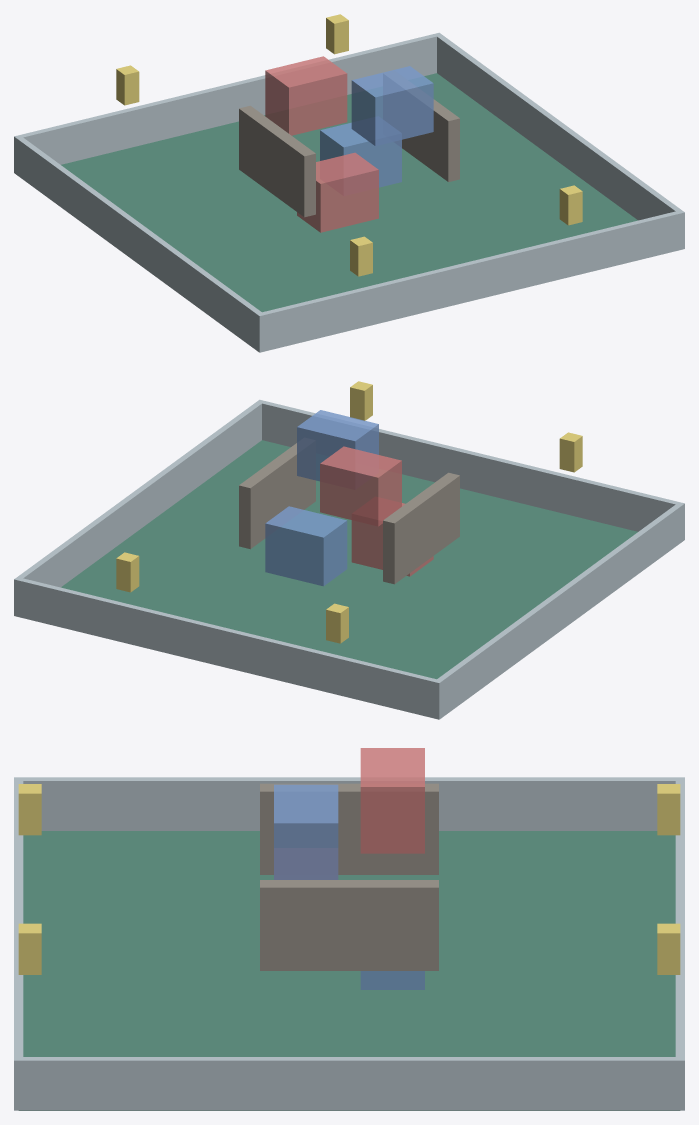
File: field.glb
3 renders of one model, top to bottom at view 1: azimuth 30°, elevation 25°; view 2: azimuth 150°, elevation 25°; view 3: azimuth 270°, elevation 25°, orthographic. The views are drawn at different scales.
Parts seen in each view (by area): view 1: floor, wall_s, wall_n, wall_w, wall_e, hive_frame_west, blue_cell_up, red_cell_up, red_cell_down, hive_frame_east, blue_cell_down, flower_2 (+3 smaller); view 2: floor, wall_n, wall_s, wall_w, wall_e, hive_frame_west, blue_cell_down, red_cell_up, hive_frame_east, blue_cell_up, red_cell_down, flower_4 (+3 smaller); view 3: floor, wall_e, wall_w, hive_frame_east, hive_frame_west, red_cell_up, blue_cell_up, wall_n, wall_s, flower_1, flower_2, flower_3 (+2 smaller).
Part boxes in pixels (x1,y1,x2,y2): floor: (61, 73, 637, 312); wall_s: (256, 210, 684, 352); wall_n: (14, 32, 441, 174); wall_w: (15, 136, 263, 349); wall_e: (436, 34, 682, 220); hive_frame_west: (239, 105, 315, 217); blue_cell_up: (351, 66, 433, 145); red_cell_up: (265, 56, 347, 135); red_cell_down: (297, 152, 378, 232); hive_frame_east: (383, 71, 459, 182); blue_cell_down: (320, 122, 401, 187); flower_2: (559, 185, 582, 225); floor: (61, 440, 637, 679); wall_n: (14, 577, 442, 719); wall_s: (257, 399, 684, 540); wall_w: (435, 503, 683, 716); wall_e: (17, 401, 262, 587); hive_frame_west: (383, 472, 459, 584); blue_cell_down: (265, 506, 347, 586); red_cell_up: (320, 446, 401, 526); hive_frame_east: (239, 439, 315, 549); blue_cell_up: (297, 410, 378, 481); red_cell_down: (351, 503, 433, 576); flower_4: (116, 552, 139, 592); floor: (19, 831, 679, 1110); wall_e: (18, 1057, 679, 1110); wall_w: (19, 777, 678, 830); hive_frame_east: (260, 880, 438, 970); hive_frame_west: (260, 783, 438, 874); red_cell_up: (360, 748, 424, 853); blue_cell_up: (274, 784, 338, 879); wall_n: (675, 777, 684, 1110); wall_s: (14, 777, 23, 1110); flower_1: (18, 784, 41, 835); flower_2: (18, 923, 41, 974); flower_3: (657, 784, 680, 835).
Size of the model in its own units: 146 by 44.5 by 146.
